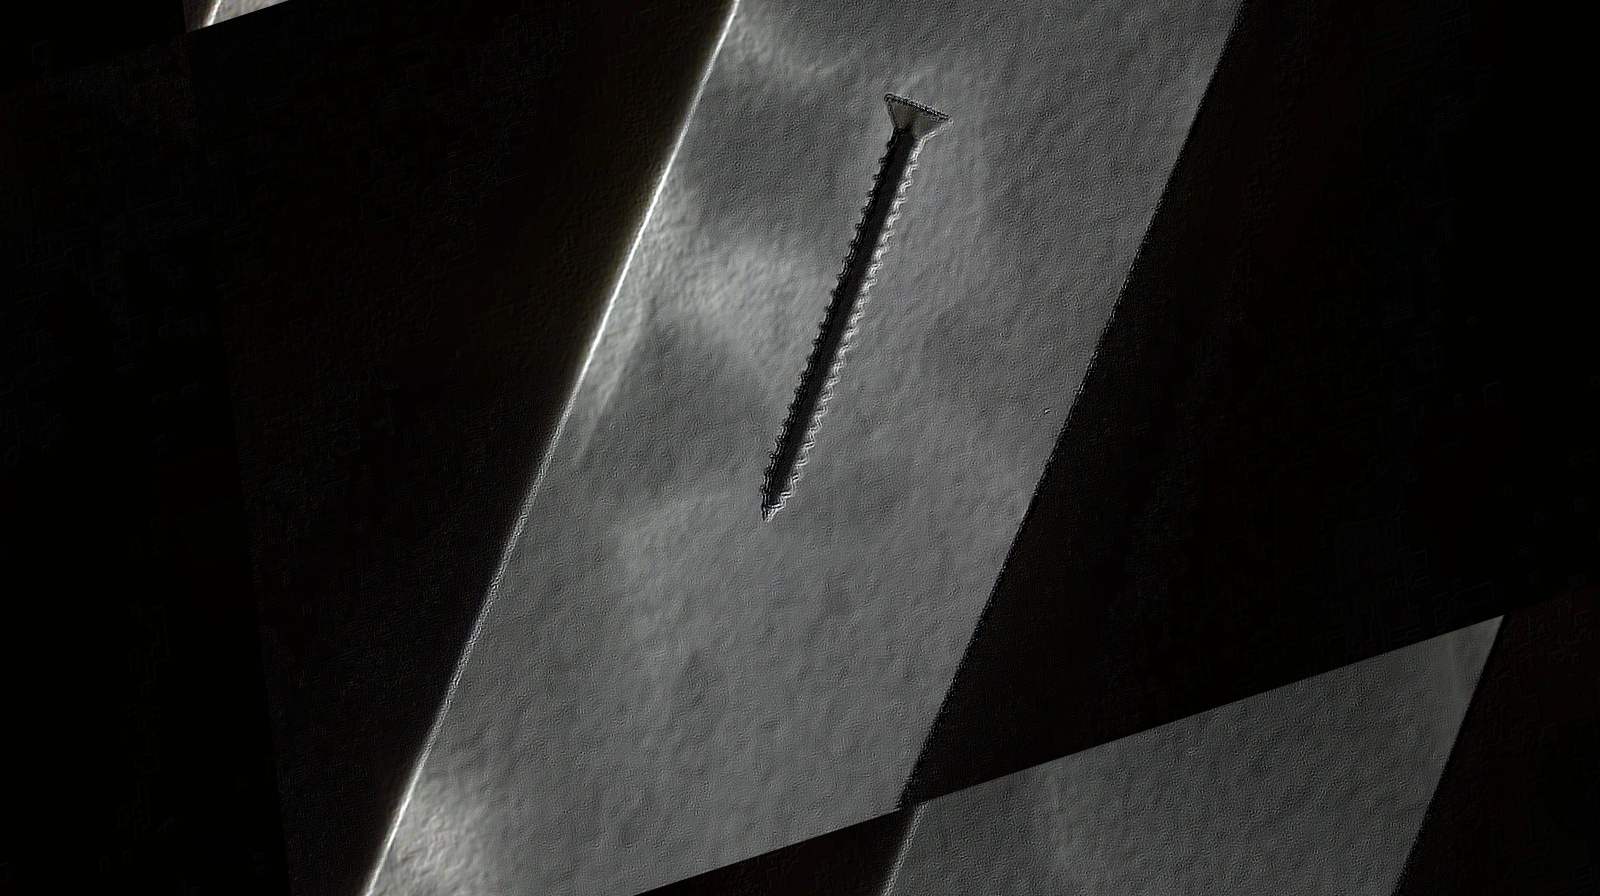S002: (673, 41, 1025, 564)
